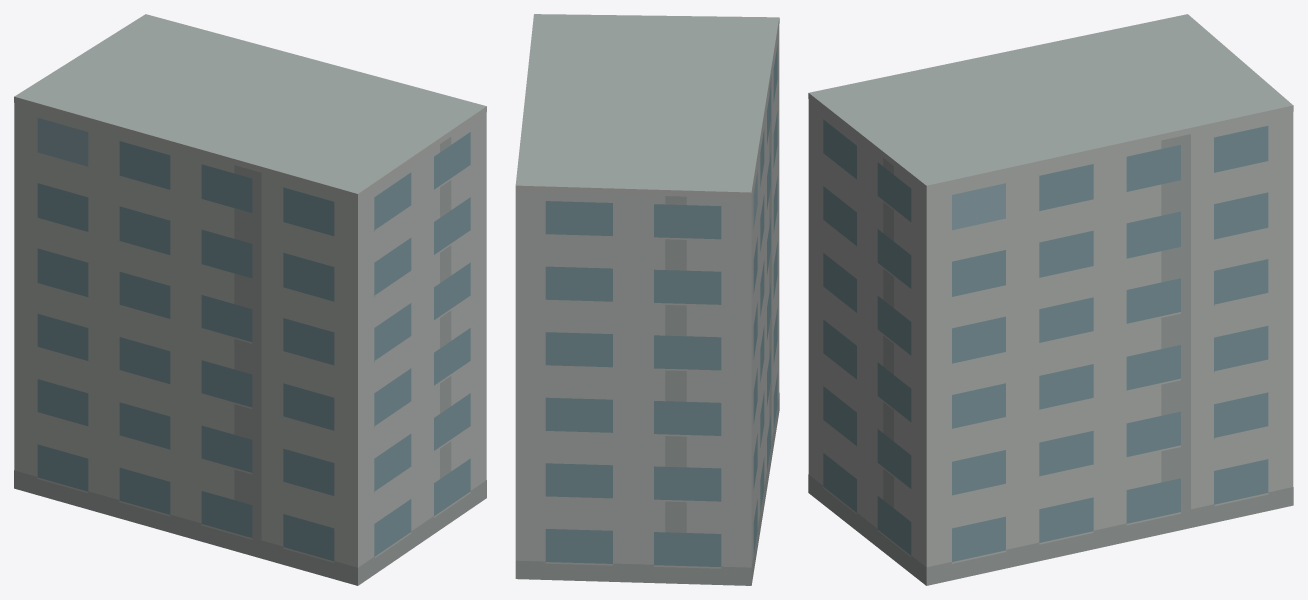
Rendered from survey-upis-32955490.glb.
3 renders of one model, left to right at view 1: azimuth 30°, elevation 25°; view 2: azimuth 150°, elevation 25°; view 3: azimuth 270°, elevation 25°, orthographic. The views are drawn at different scales.
Parts seen in each view (by area): view 1: survey-upis-32955490.tmp; view 2: survey-upis-32955490.tmp; view 3: survey-upis-32955490.tmp.
Boxes of the visible parts, <box> form: survey-upis-32955490.tmp: <box>14,14,486,585</box>; survey-upis-32955490.tmp: <box>515,14,779,585</box>; survey-upis-32955490.tmp: <box>808,14,1293,585</box>.
Bounding box in the file's own units: 14.55 × 15.8 × 17.36.
